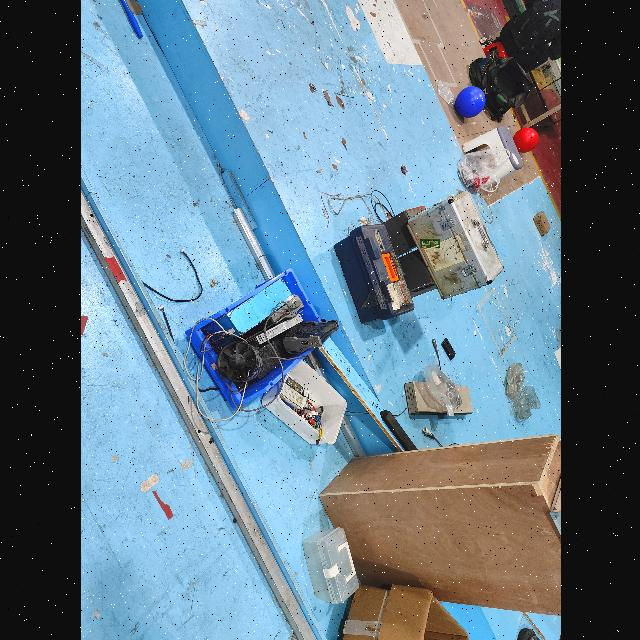B: (454, 86, 484, 118)
R: (510, 128, 538, 152)
